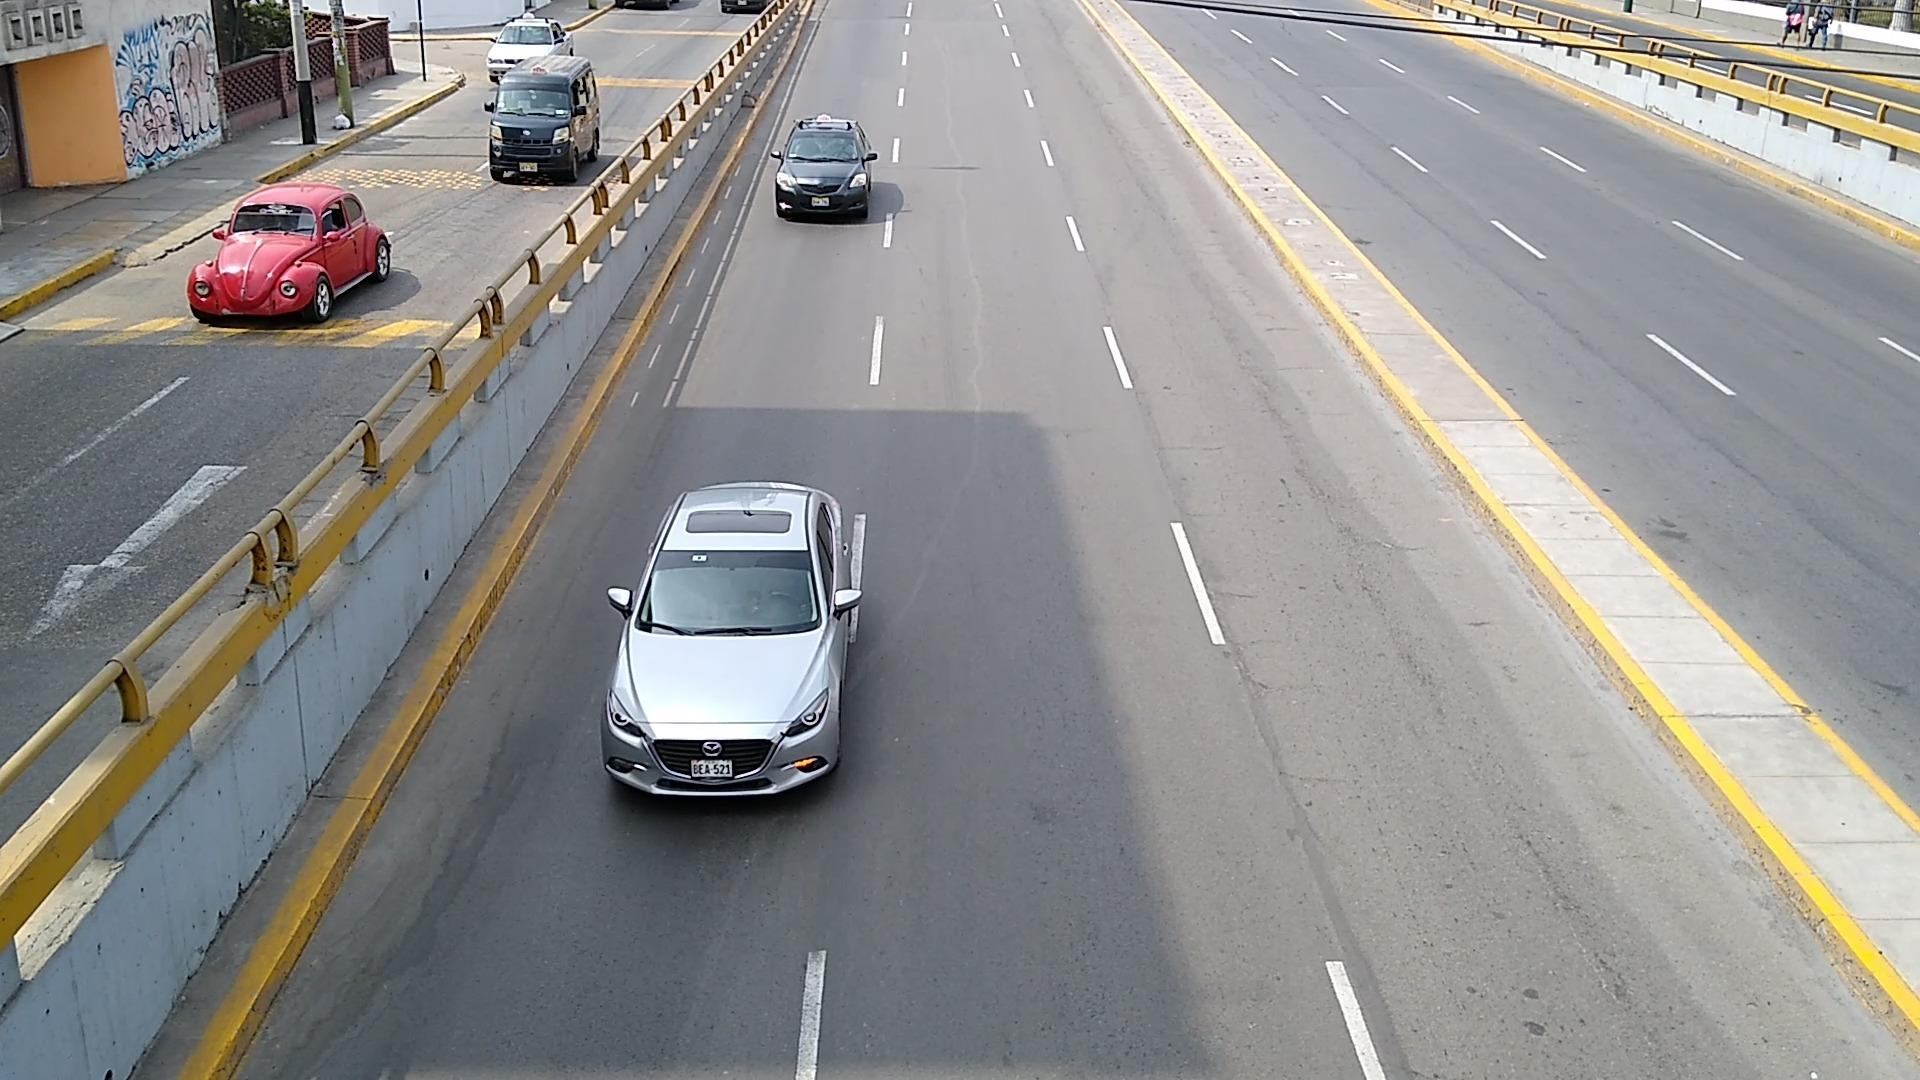car: (600, 484, 862, 795), (187, 183, 390, 323), (769, 112, 877, 218), (488, 15, 574, 83)
motorcyclist: (488, 57, 600, 179)
